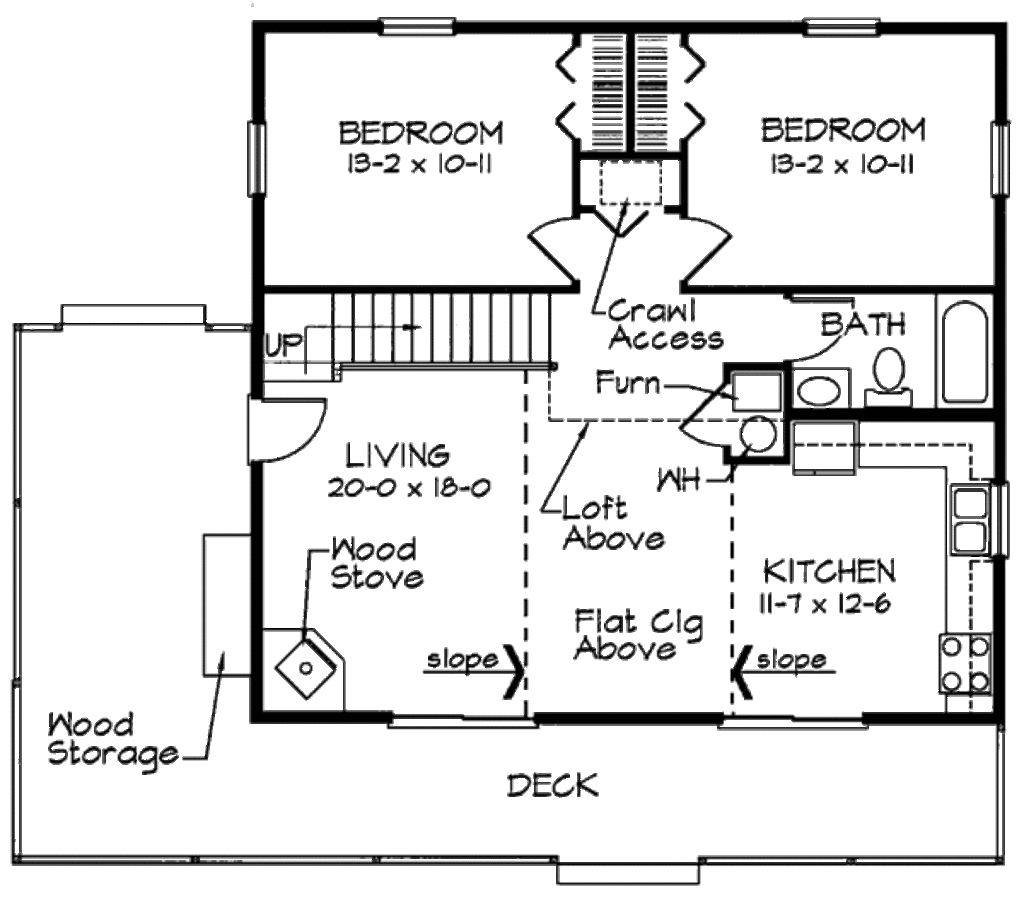door: (240, 396, 337, 466), (667, 207, 740, 290), (674, 376, 733, 459), (523, 213, 592, 283)
large_sink: (859, 333, 919, 414)
small_sink: (789, 365, 848, 413)
stairs: (258, 281, 560, 394)
tub: (927, 296, 999, 410)
twin_sink: (940, 473, 996, 559)
window: (393, 707, 532, 739), (715, 707, 863, 735), (240, 121, 274, 199), (377, 11, 460, 39), (803, 13, 877, 43), (989, 118, 1015, 199)
